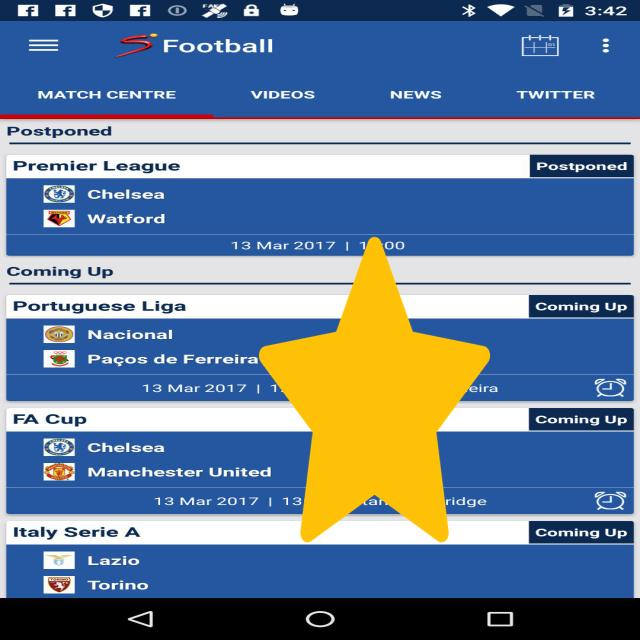forced continuity: (259, 237, 490, 542)
